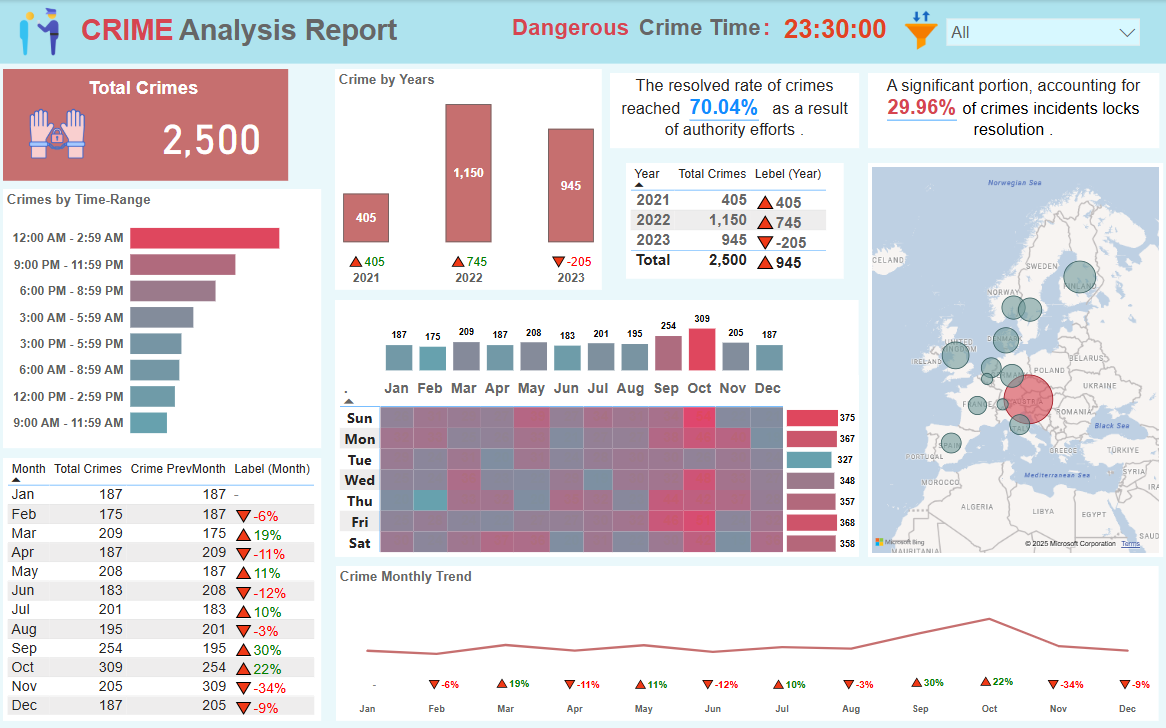

The page's visual inventory and layout, read from the dashboard file:
{"tool":"powerbi","page":{"name":"Report","canvas":[1530,950],"ordinal":0},"visuals":[{"type":"shape","box":[6.4,89.5,372.1,145.8],"z":0},{"type":"shape","box":[0,0,1530,83.5],"z":1000},{"type":"card","fields":{"Values":["Measures Table.Total Crimes"]},"box":[204.6,136.8,147.1,75.4],"z":2000},{"type":"actionButton","title":"CRIME","box":[108.4,18.1,139.4,46.5],"z":3000},{"type":"actionButton","title":"Analysis Report","box":[236.1,18.1,285.2,46.5],"z":4000},{"type":"image","box":[0,0,108.4,82.6],"z":5000},{"type":"image","box":[21.7,130.4,110,88.2],"z":6000},{"type":"actionButton","title":"Total Crimes","box":[53.7,101,272.4,29.4],"z":7000},{"type":"shape","box":[439.6,391.3,683.5,335.2],"z":8000},{"type":"tableEx","fields":{"Values":["Date Table.Year","Measures Table.Total Crimes","Measures Table.Lebel (Year)"]},"box":[819.1,212.6,284.3,151.3],"z":9000},{"type":"columnChart","title":"Crime by Years","fields":{"Category":["Date Table.Year"],"Y":["Measures Table.Blank Measure (Year)","Measures Table.Total Crimes"]},"box":[439.6,90,348.3,288.3],"z":10000},{"type":"lineChart","title":"Crime Monthly Trend","fields":{"Category":["Date Table.Month"],"Y":["Measures Table.Blank Measure (Month)","Measures Table.Total Crimes"]},"box":[440.9,738.3,1073.5,202.2],"z":11000},{"type":"tableEx","fields":{"Values":["Date Table.Month","Measures Table.Total Crimes","Measures Table.Crime PrevMonth","Measures Table.Label (Month)"]},"box":[6.5,597.4,414.8,343],"z":12000},{"type":"barChart","title":"Crimes by Time-Range","fields":{"Category":["Data.Time Group"],"Y":["Measures Table.Total Crimes"]},"box":[6.5,246.5,414.8,337.8],"z":13000},{"type":"pivotTable","fields":{"Rows":["Date Table.WeekDay"],"Columns":["Date Table.Month"],"Values":["Measures Table.Total Crimes"]},"box":[440.9,489.1,682.2,237.4],"z":14000},{"type":"columnChart","fields":{"Y":["Measures Table.Total Crimes"],"Category":["Date Table.Month"]},"box":[500.9,393.9,528.3,95.2],"z":15000},{"type":"barChart","fields":{"Y":["Measures Table.Total Crimes"],"Category":["Date Table.WeekDay"]},"box":[1023.9,521.7,99.1,203.5],"z":16000},{"type":"textbox","box":[798.3,95.2,324.8,97.8],"z":17000},{"type":"textbox","box":[1134.8,95.2,379.6,97.8],"z":18000},{"type":"card","fields":{"Values":["Min(Data.Crime Time)"]},"box":[990.4,0,204.1,83.2],"z":19000},{"type":"map","fields":{"Category":["Data.Country"],"Size":["Measures Table.Total Crimes"]},"box":[1134.8,212.6,384.8,513.9],"z":20000},{"type":"actionButton","title":"Dangerous","box":[669.9,18.1,161.8,45.4],"z":21000},{"type":"actionButton","title":"Crime Time","box":[836.2,18.1,167.8,45.4],"z":22000},{"type":"actionButton","title":":","box":[998,18.1,12.1,45.4],"z":23000},{"type":"slicer","fields":{"Values":["Crime Types.Crime"]},"box":[1227.6,14.1,272.4,65.2],"z":24000},{"type":"image","box":[1171.4,9,65.2,63.9],"z":25000}]}

Visuals, with their boxes in screenshot pixels (x1, y1, x2, y2), scaled from the page's 1530x950 canvas onto the 1166x728 screenshot:
shape: [5,69,288,180]
shape: [0,0,1165,64]
card - Measures Table.Total Crimes: [156,105,268,163]
"CRIME" actionButton: [83,14,189,50]
"Analysis Report" actionButton: [180,14,397,50]
image: [0,0,83,63]
image: [17,100,100,168]
"Total Crimes" actionButton: [41,77,249,100]
shape: [335,300,856,557]
tableEx - Date Table.Year x Measures Table.Total Crimes: [624,163,841,279]
"Crime by Years" columnChart: [335,69,600,290]
"Crime Monthly Trend" lineChart: [336,566,1154,721]
tableEx - Date Table.Month x Measures Table.Total Crimes: [5,458,321,721]
"Crimes by Time-Range" barChart: [5,189,321,448]
pivotTable - Date Table.WeekDay x Date Table.Month: [336,375,856,557]
columnChart - Measures Table.Total Crimes x Date Table.Month: [382,302,784,375]
barChart - Measures Table.Total Crimes x Date Table.WeekDay: [780,400,856,556]
textbox: [608,73,856,148]
textbox: [865,73,1154,148]
card - Min(Data.Crime Time): [755,0,910,64]
map - Data.Country x Measures Table.Total Crimes: [865,163,1158,557]
"Dangerous" actionButton: [511,14,634,49]
"Crime Time" actionButton: [637,14,765,49]
":" actionButton: [761,14,770,49]
slicer - Crime Types.Crime: [936,11,1143,61]
image: [893,7,942,56]
